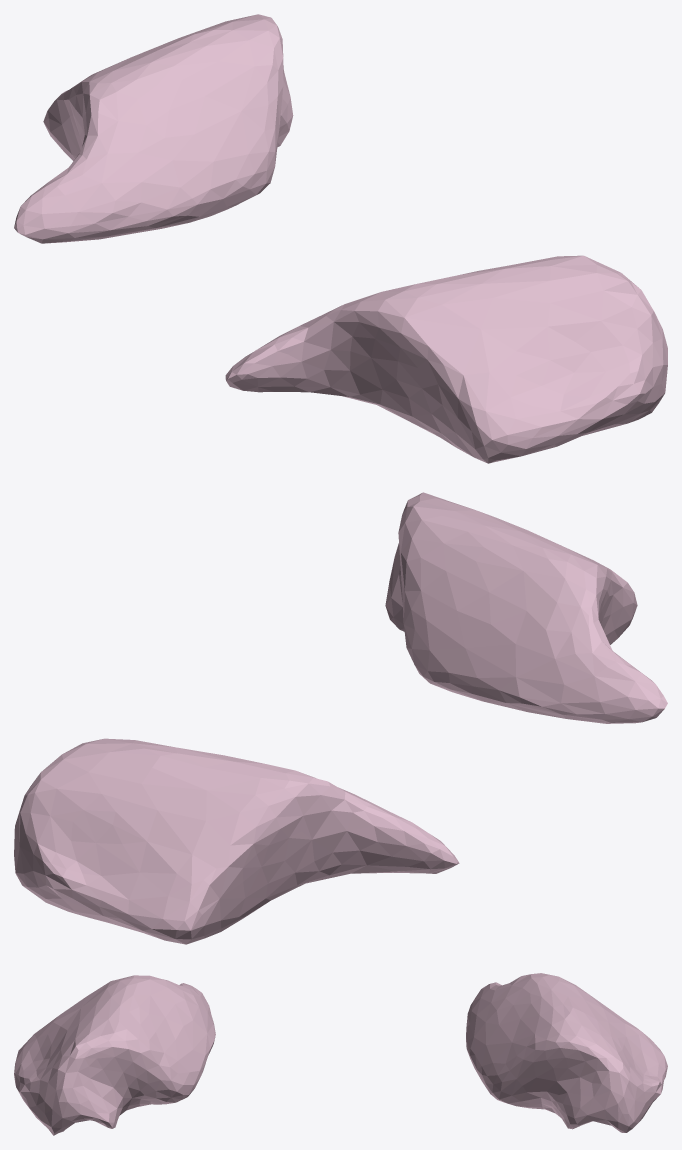
3 views of the same model, one above another, from view 1: azimuth 30°, elevation 25°; view 2: azimuth 150°, elevation 25°; view 3: azimuth 270°, elevation 25° (orthographic). The views are drawn at different scales.
Visible parts, largest first — view 1: 978.obj; view 2: 978.obj; view 3: 978.obj.
Boxes of the visible parts, box(x1,y1,x2,y2) form: 978.obj: box(14, 14, 667, 463); 978.obj: box(14, 492, 667, 944); 978.obj: box(14, 973, 667, 1135).
Bounding box in the file's own units: 1499 × 625 × 3376.
